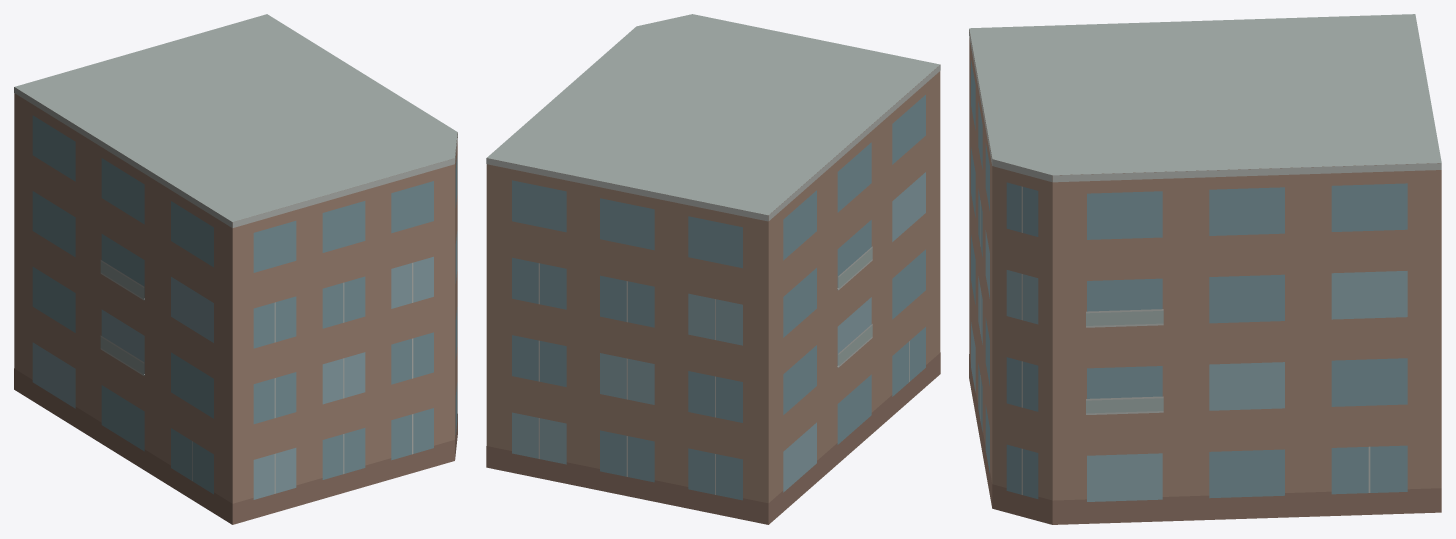
The model's file is residential-8e38291a-eccd-40e2-9ddf-34702d805a45.glb.
3 renders of one model, left to right at view 1: azimuth 30°, elevation 25°; view 2: azimuth 150°, elevation 25°; view 3: azimuth 270°, elevation 25°, orthographic. The views are drawn at different scales.
Parts seen in each view (by area): view 1: residential-8e38291a-eccd-40e2-9ddf-34702d805a45.tmp; view 2: residential-8e38291a-eccd-40e2-9ddf-34702d805a45.tmp; view 3: residential-8e38291a-eccd-40e2-9ddf-34702d805a45.tmp.
Part boxes in pixels (left/top/right/bottom): residential-8e38291a-eccd-40e2-9ddf-34702d805a45.tmp: left=14, top=14, right=457, bottom=524; residential-8e38291a-eccd-40e2-9ddf-34702d805a45.tmp: left=486, top=14, right=940, bottom=524; residential-8e38291a-eccd-40e2-9ddf-34702d805a45.tmp: left=969, top=14, right=1441, bottom=524.
Bounding box in the file's own units: 12.09 × 12.2 × 14.96.
